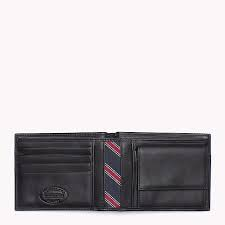monedero: (13, 132, 212, 213)
